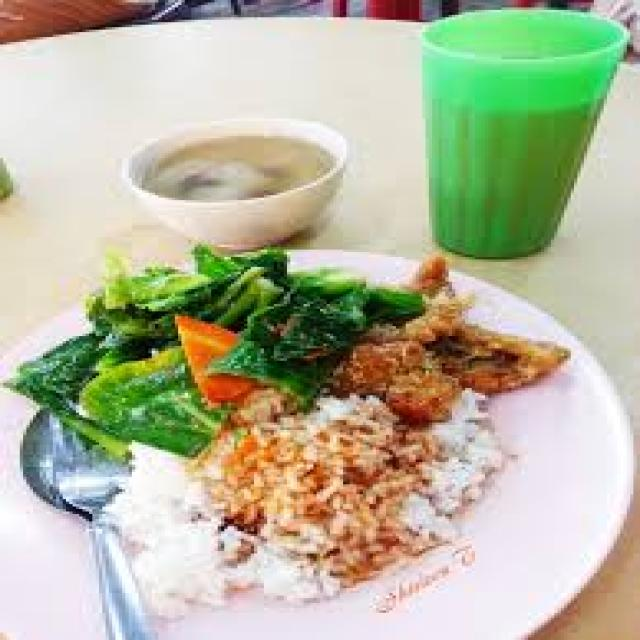Chicken: (330, 289, 564, 420)
Green veg: (10, 245, 419, 460)
Non green veg: (178, 316, 257, 405)
Rice: (115, 390, 518, 615)
